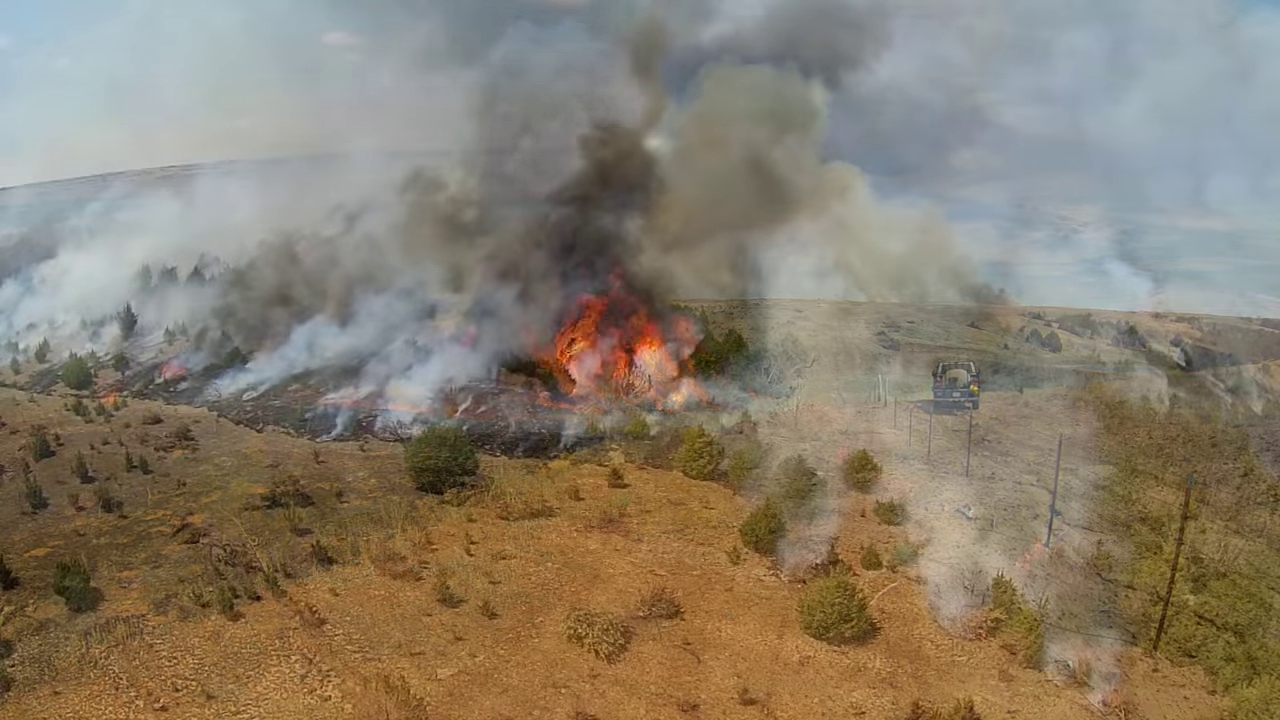forest_fire: (539, 275, 698, 397)
